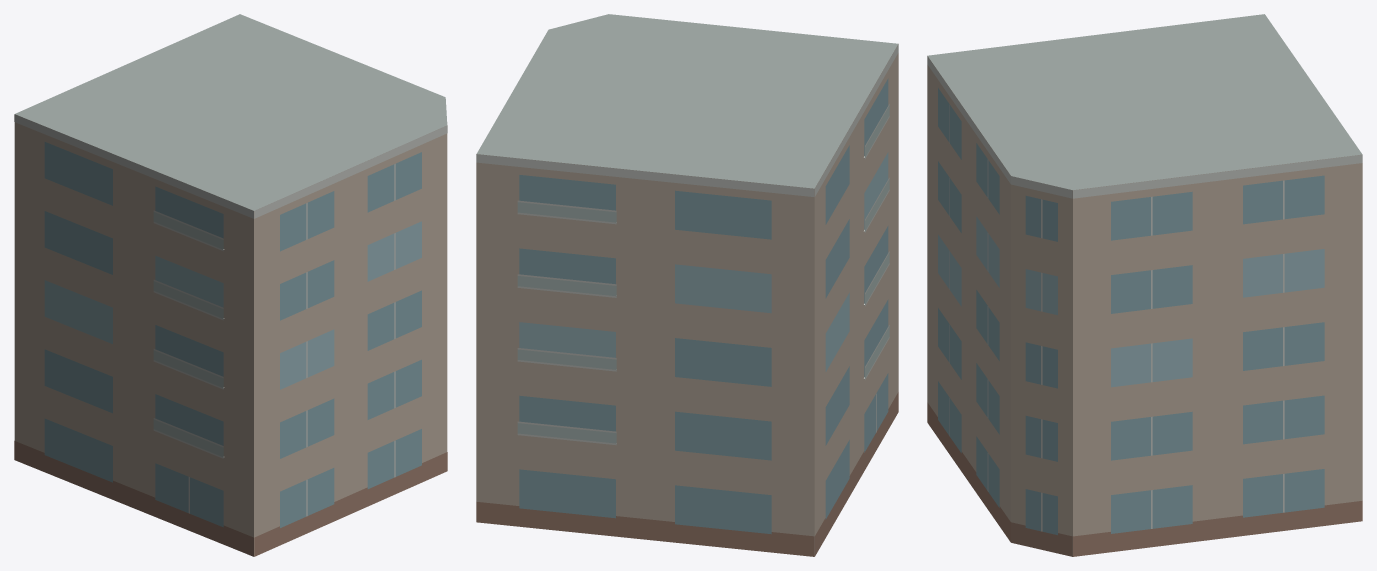
Rendered from survey-upis-32620932.glb.
3 views of the same model, side by side, from view 1: azimuth 30°, elevation 25°; view 2: azimuth 150°, elevation 25°; view 3: azimuth 270°, elevation 25° (orthographic). The views are drawn at different scales.
Visible parts, largest first — view 1: survey-upis-32620932.tmp; view 2: survey-upis-32620932.tmp; view 3: survey-upis-32620932.tmp.
Boxes of the visible parts, x1,y1,x2,y2 form: survey-upis-32620932.tmp: [14, 14, 447, 556]; survey-upis-32620932.tmp: [476, 14, 898, 556]; survey-upis-32620932.tmp: [927, 14, 1362, 556].
Bounding box in the file's own units: 10.83 × 10.5 × 11.31.
